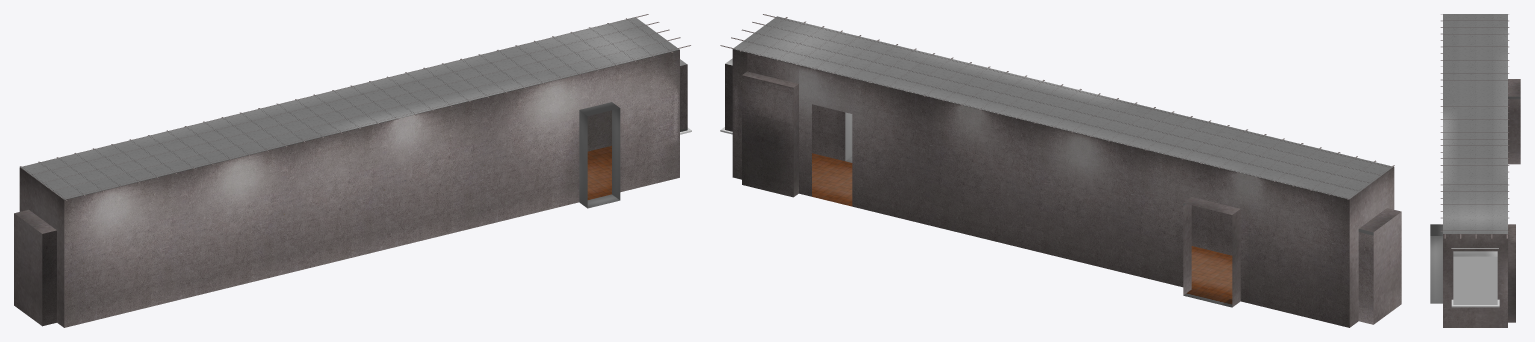
The model's file is koridor_walls.fbx.
3 views of the same model, side by side, from view 1: azimuth 30°, elevation 25°; view 2: azimuth 150°, elevation 25°; view 3: azimuth 270°, elevation 25° (orthographic). The views are drawn at different scales.
Visible parts, largest first — view 1: koridor; view 2: koridor; view 3: koridor.
Part boxes in pixels (x1,y1,x2,y2): koridor: (14,14,691,327); koridor: (720,14,1401,327); koridor: (1430,14,1520,327).
Size of the model in its own units: 14.79 by 2.79 by 2.43.
